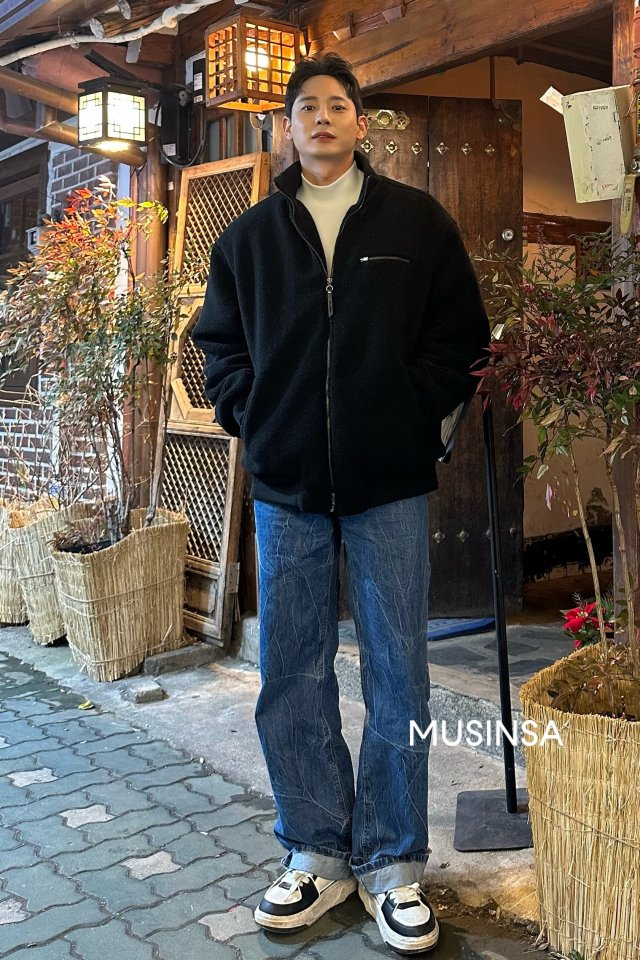Jeans: (249, 490, 449, 886)
Outer: (193, 159, 489, 502)
Shoes: (258, 852, 459, 956)
